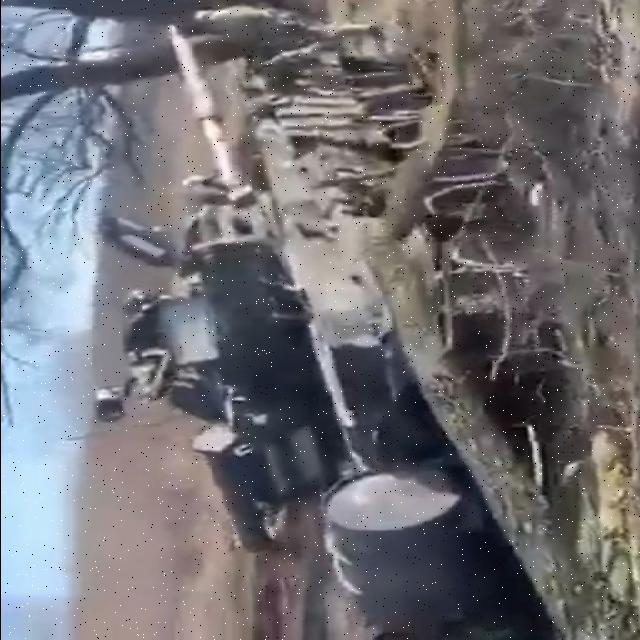TANK: (96, 23, 540, 628)
